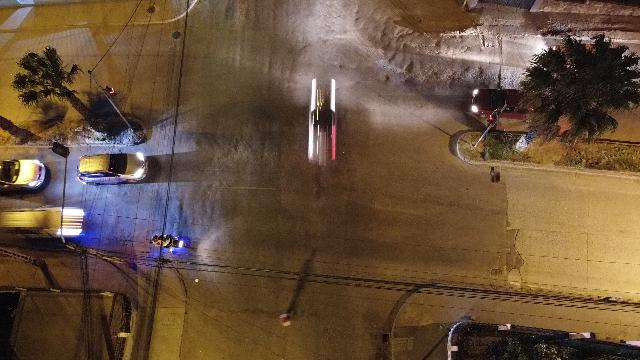Vehiculo: (471, 88, 535, 126), (76, 152, 148, 185), (0, 158, 46, 194)
